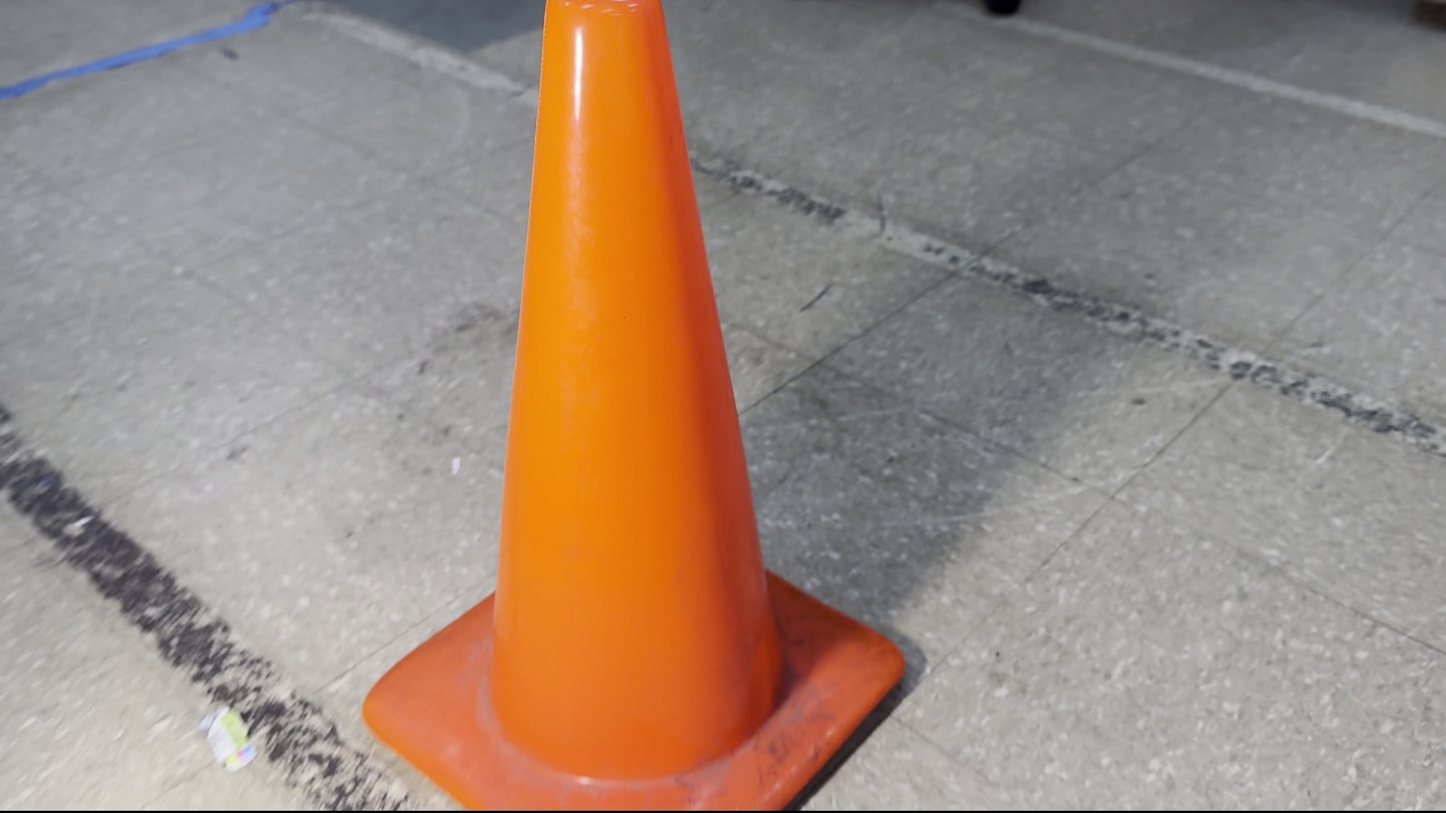traffic_cone: (360, 1, 907, 811)
